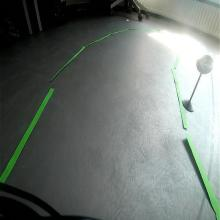left: (196, 54, 212, 76)
